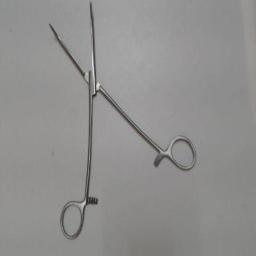Lahey Forceps: (43, 2, 201, 246)
